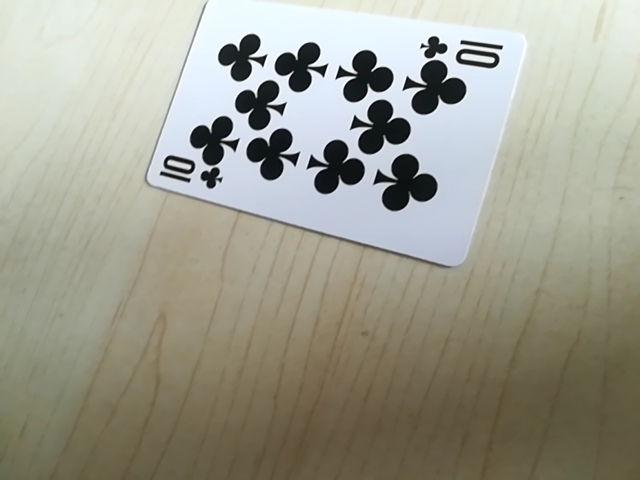mh 10: (417, 30, 509, 69), (153, 158, 226, 193)
